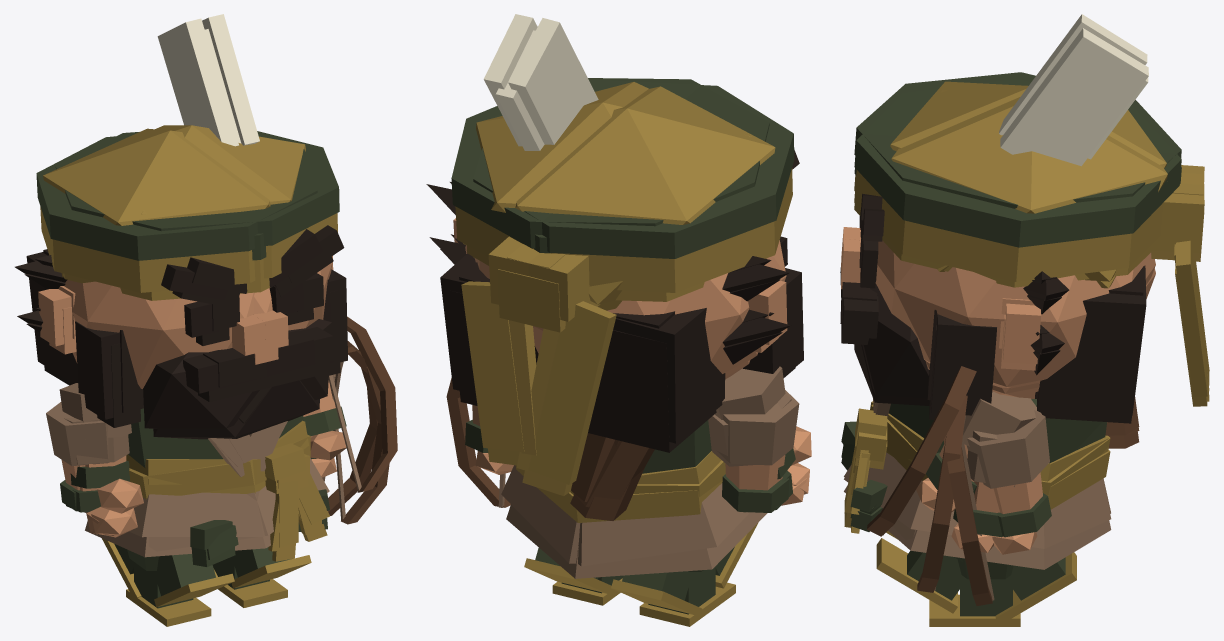
The model's file is yt_archer_chibi_poses.glb.
The picture shows the model from 3 angles, left to right: view 1: azimuth 30°, elevation 25°; view 2: azimuth 150°, elevation 25°; view 3: azimuth 270°, elevation 25°; orthographic projection. The views are drawn at different scales.
Visible parts, largest first — view 1: pose_1, pose_3, pose_0; view 2: pose_1, pose_3, pose_0; view 3: pose_3, pose_1, pose_0.
Part boxes in pixels (x1,y1,x2,y2): pose_1: (15, 18, 397, 601); pose_3: (35, 14, 377, 607); pose_0: (24, 29, 389, 626); pose_1: (450, 18, 806, 614); pose_3: (426, 14, 811, 595); pose_0: (438, 30, 809, 626); pose_3: (840, 28, 1209, 619); pose_1: (840, 14, 1209, 613); pose_0: (841, 77, 1209, 626).
Size of the model in its own units: 1.13 by 1.73 by 0.9709.
